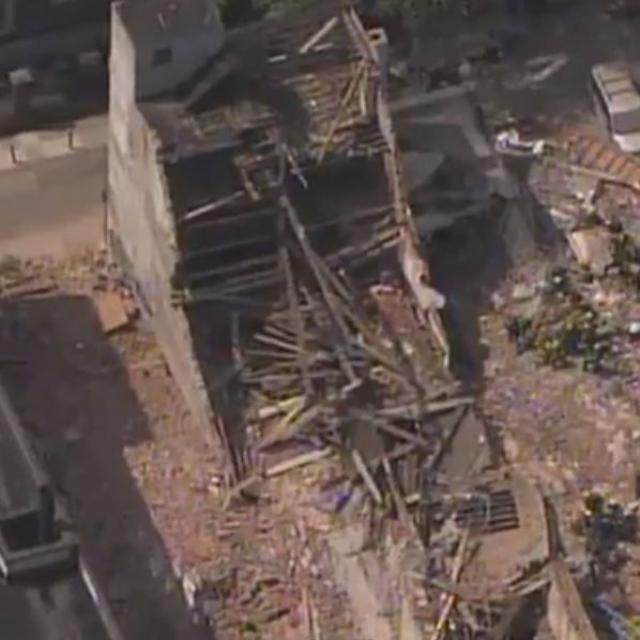collapsed_building: (108, 3, 453, 479)
